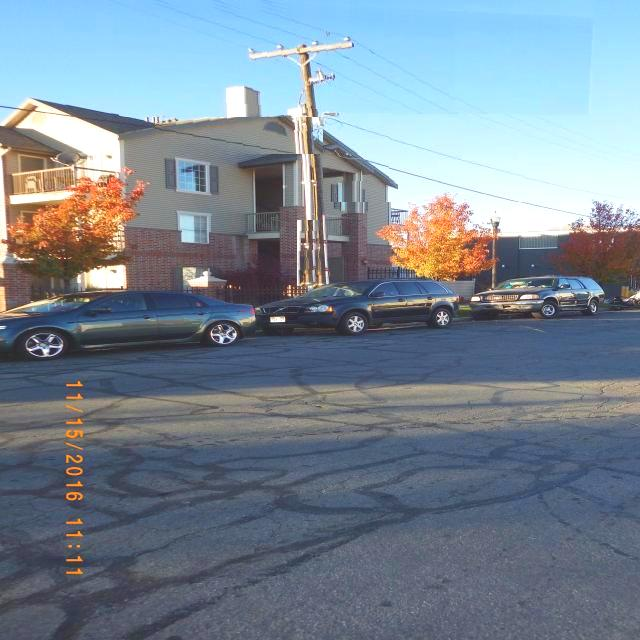crossarm: (248, 24, 353, 50)
pole: (297, 29, 320, 286)
wire: (0, 105, 595, 220), (156, 0, 539, 154), (210, 0, 561, 148), (264, 0, 593, 133), (108, 0, 421, 117), (323, 113, 638, 202)
